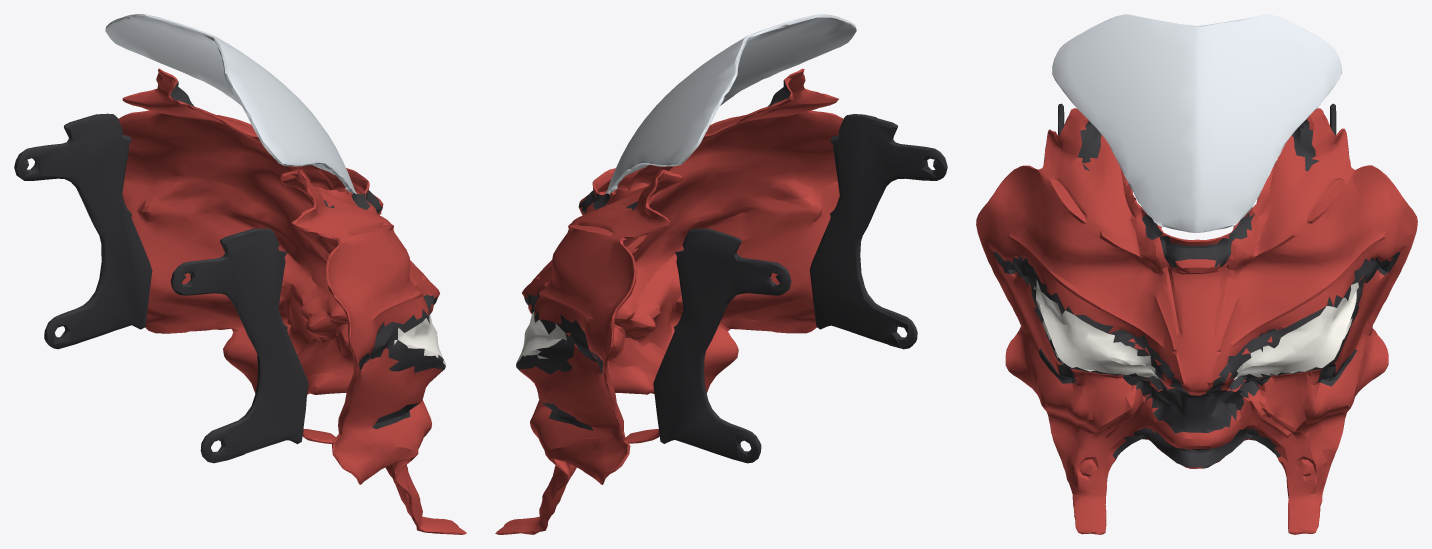
Rendered from naked_5_lod1.glb.
3 renders of one model, left to right at view 1: azimuth 30°, elevation 25°; view 2: azimuth 150°, elevation 25°; view 3: azimuth 270°, elevation 25°, orthographic. The views are drawn at different scales.
Parts seen in each view (by area): view 1: naked_5_lod1; view 2: naked_5_lod1; view 3: naked_5_lod1.
Boxes of the visible parts, x1,y1,x2,y2 form: naked_5_lod1: (14, 14, 466, 534); naked_5_lod1: (495, 14, 947, 534); naked_5_lod1: (976, 14, 1417, 534).
Bounding box in the file's own units: 0.3217 × 0.4469 × 0.4161.
